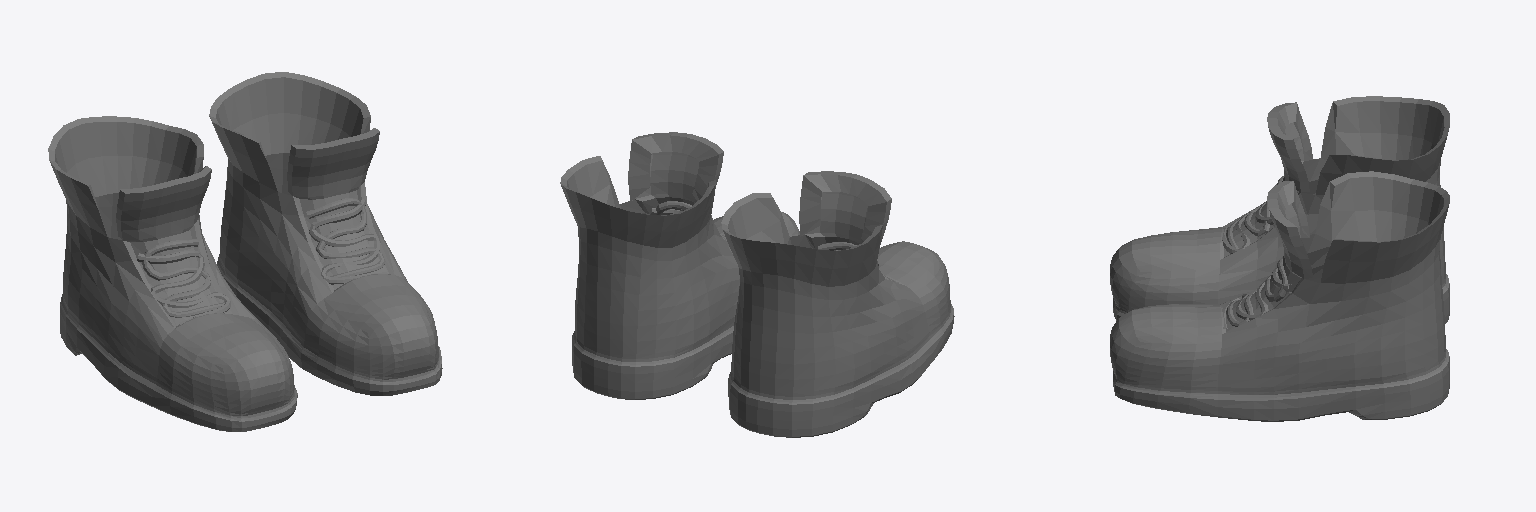
The model's file is ChainsawmanShoes.obj.
3 views of the same model, side by side, from view 1: azimuth 30°, elevation 25°; view 2: azimuth 150°, elevation 25°; view 3: azimuth 270°, elevation 25° (orthographic).
Visible parts, largest first — view 1: Laces2 Geo ChainsawMan; view 2: Laces2 Geo ChainsawMan; view 3: Laces2 Geo ChainsawMan.
Boxes of the visible parts, box(x1,y1,x2,y2) form: Laces2 Geo ChainsawMan: box(48, 72, 442, 431); Laces2 Geo ChainsawMan: box(560, 132, 954, 437); Laces2 Geo ChainsawMan: box(1110, 96, 1449, 421).
Bounding box in the file's own units: 6.49 × 4.05 × 6.39.